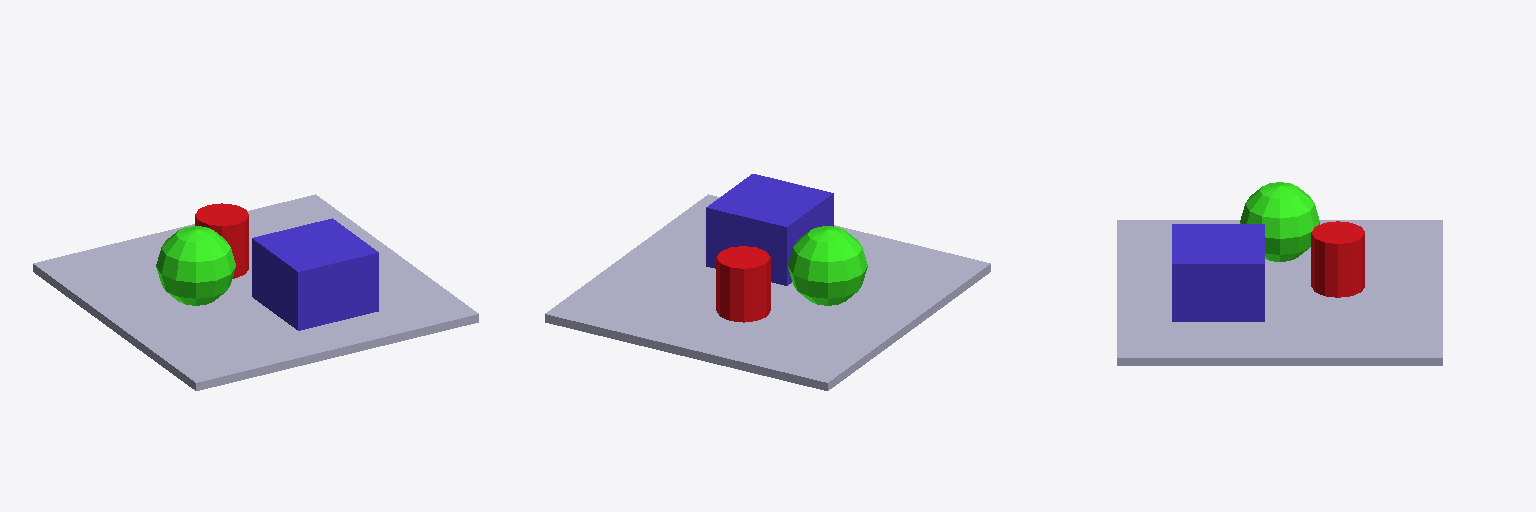
The model's file is simple4.obj.
3 renders of one model, left to right at view 1: azimuth 30°, elevation 25°; view 2: azimuth 150°, elevation 25°; view 3: azimuth 270°, elevation 25°, orthographic.
Parts seen in each view (by area): view 1: Box01, Box02, Sphere01, Cylinder02; view 2: Box01, Box02, Sphere01, Cylinder02; view 3: Box01, Box02, Sphere01, Cylinder02.
Boxes of the visible parts, <box> form: Box01: <box>33,194,478,390</box>; Box02: <box>252,218,378,330</box>; Sphere01: <box>156,226,235,305</box>; Cylinder02: <box>195,203,248,278</box>; Box01: <box>545,194,990,390</box>; Box02: <box>706,174,833,285</box>; Sphere01: <box>788,226,867,305</box>; Cylinder02: <box>716,246,770,322</box>; Box01: <box>1117,220,1442,365</box>; Box02: <box>1172,224,1264,321</box>; Sphere01: <box>1240,182,1319,261</box>; Cylinder02: <box>1311,221,1364,297</box>.
Bounding box in the file's own units: 634 × 176 × 634.